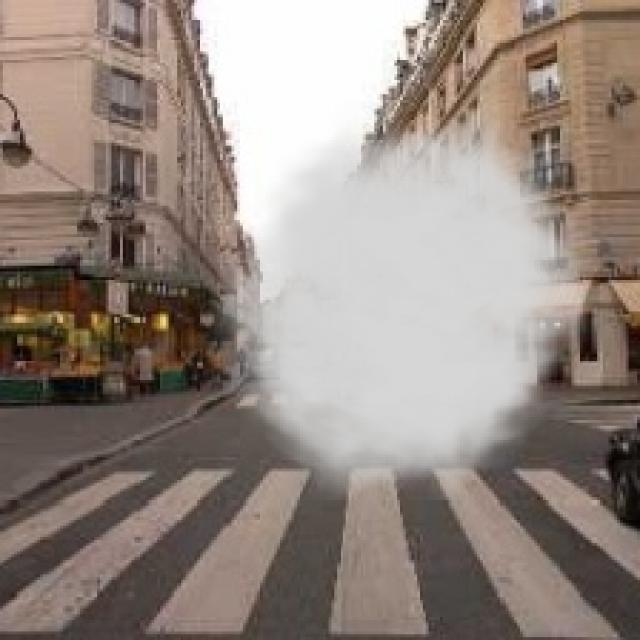smoke: (200, 100, 609, 500)
